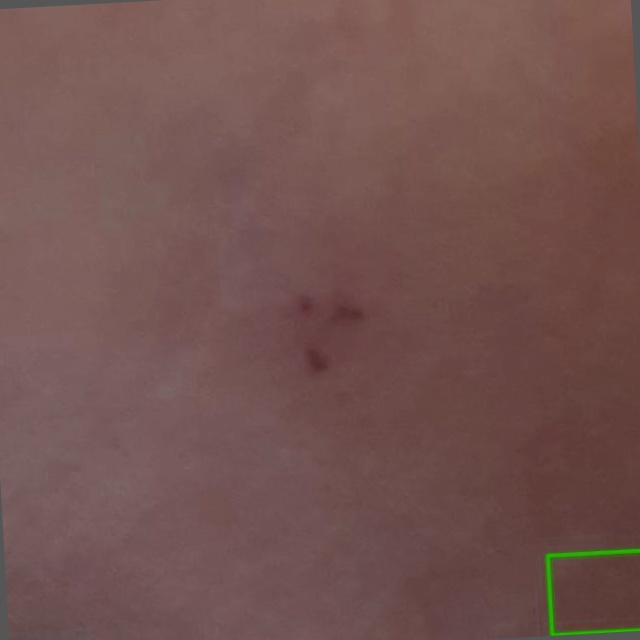Atopic Dermatitis: (547, 550, 639, 634)
